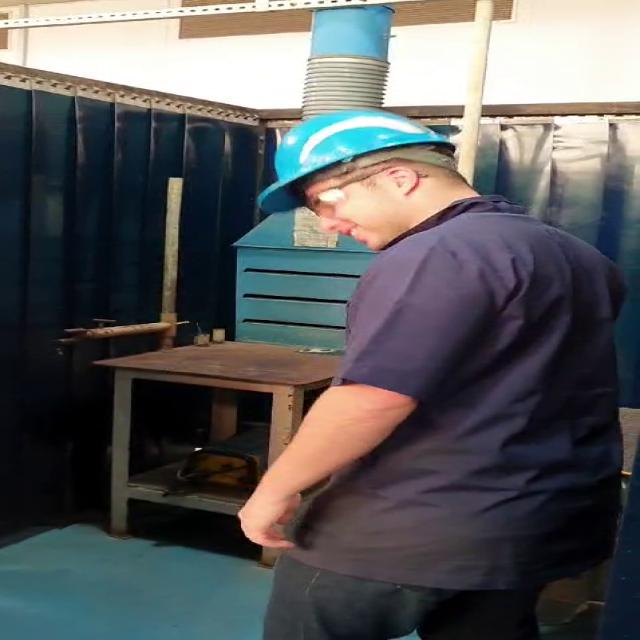oculos-epi: (304, 167, 392, 218)
